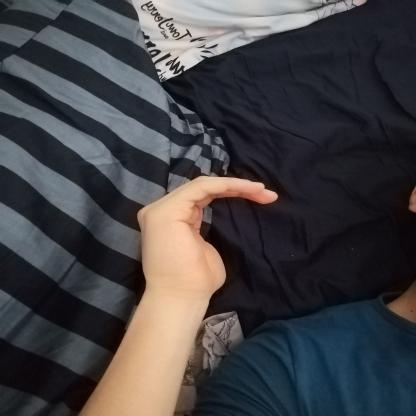HAA: (121, 170, 287, 305)
